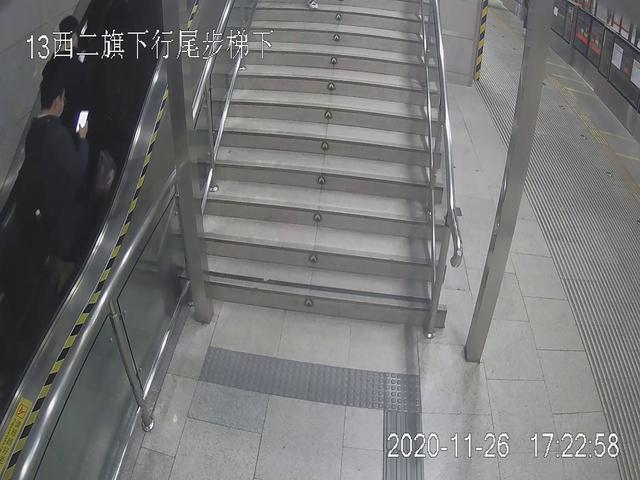person: (25, 74, 85, 252)
